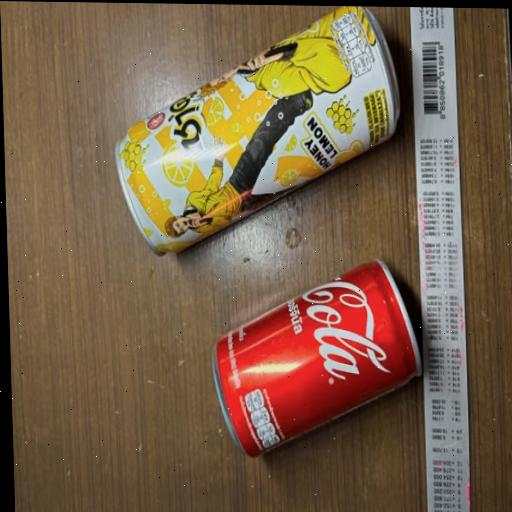bottle: (79, 1, 411, 288), (190, 236, 439, 476)
